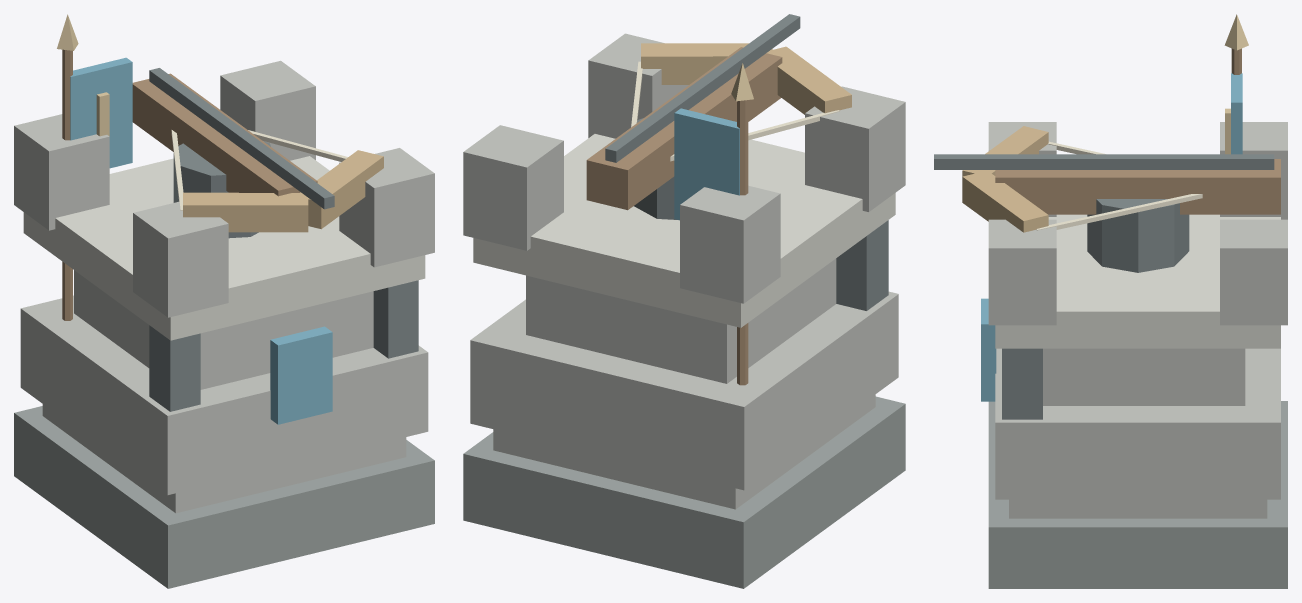
File: human_crossbow_t4.glb
The picture shows the model from 3 angles, left to right: view 1: azimuth 30°, elevation 25°; view 2: azimuth 150°, elevation 25°; view 3: azimuth 270°, elevation 25°; orthographic projection. The views are drawn at different scales.
Parts seen in each view (by area): view 1: human_crossbow_t4_MAT_stone, human_crossbow_t4_MAT_dark, human_crossbow_t4_MAT_light, human_crossbow_t4_MAT_iron, human_crossbow_t4_MAT_blue, human_crossbow_t4_MAT_wood, human_crossbow_t4_MAT_edge, human_crossbow_t4_MAT_white, human_crossbow_t4_MAT_gold; view 2: human_crossbow_t4_MAT_stone, human_crossbow_t4_MAT_dark, human_crossbow_t4_MAT_light, human_crossbow_t4_MAT_wood, human_crossbow_t4_MAT_iron, human_crossbow_t4_MAT_edge, human_crossbow_t4_MAT_blue, human_crossbow_t4_MAT_white; view 3: human_crossbow_t4_MAT_stone, human_crossbow_t4_MAT_dark, human_crossbow_t4_MAT_light, human_crossbow_t4_MAT_iron, human_crossbow_t4_MAT_wood, human_crossbow_t4_MAT_edge, human_crossbow_t4_MAT_blue, human_crossbow_t4_MAT_white, human_crossbow_t4_MAT_gold.
Part boxes in pixels (left/top/right/bottom): human_crossbow_t4_MAT_stone: left=14, top=60, right=434, bottom=513; human_crossbow_t4_MAT_dark: left=14, top=406, right=434, bottom=588; human_crossbow_t4_MAT_light: left=23, top=156, right=425, bottom=340; human_crossbow_t4_MAT_iron: left=149, top=68, right=418, bottom=411; human_crossbow_t4_MAT_blue: left=70, top=57, right=332, bottom=424; human_crossbow_t4_MAT_wood: left=62, top=49, right=317, bottom=320; human_crossbow_t4_MAT_edge: left=183, top=150, right=383, bottom=232; human_crossbow_t4_MAT_white: left=171, top=130, right=347, bottom=210; human_crossbow_t4_MAT_gold: left=57, top=14, right=109, bottom=136; human_crossbow_t4_MAT_stone: left=463, top=33, right=905, bottom=509; human_crossbow_t4_MAT_dark: left=463, top=396, right=905, bottom=588; human_crossbow_t4_MAT_light: left=473, top=134, right=895, bottom=327; human_crossbow_t4_MAT_wood: left=586, top=47, right=782, bottom=385; human_crossbow_t4_MAT_iron: left=605, top=14, right=888, bottom=310; human_crossbow_t4_MAT_edge: left=641, top=43, right=851, bottom=114; human_crossbow_t4_MAT_blue: left=674, top=108, right=739, bottom=220; human_crossbow_t4_MAT_white: left=631, top=61, right=839, bottom=161; human_crossbow_t4_MAT_stone: left=988, top=122, right=1287, bottom=518; human_crossbow_t4_MAT_dark: left=988, top=401, right=1287, bottom=588; human_crossbow_t4_MAT_light: left=995, top=214, right=1280, bottom=348; human_crossbow_t4_MAT_iron: left=934, top=154, right=1274, bottom=419; human_crossbow_t4_MAT_wood: left=995, top=48, right=1280, bottom=214; human_crossbow_t4_MAT_edge: left=962, top=126, right=1048, bottom=232; human_crossbow_t4_MAT_blue: left=981, top=73, right=1242, bottom=401; human_crossbow_t4_MAT_white: left=1036, top=141, right=1202, bottom=230; human_crossbow_t4_MAT_gold: left=1224, top=14, right=1248, bottom=154.
Size of the model in its own units: 0.88 by 1.5 by 1.04.
